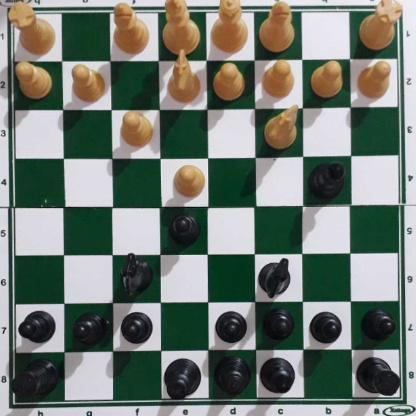black-bishop: (306, 163, 349, 202), (261, 357, 298, 394)
black-king: (164, 358, 201, 399)
black-knight: (120, 255, 154, 299), (260, 261, 292, 300)
black-pawn: (20, 312, 56, 347), (168, 214, 201, 250), (121, 314, 154, 349), (217, 312, 248, 349), (73, 315, 105, 349), (363, 312, 396, 344), (312, 312, 343, 346), (264, 310, 294, 344)
black-queen: (213, 357, 251, 396)
black-rook: (14, 361, 58, 406), (357, 358, 404, 400)
white-bishop: (258, 0, 296, 52), (113, 5, 150, 55)
white-king: (163, 0, 201, 56)
white-knight: (167, 50, 202, 106), (265, 107, 301, 153)
white-pawn: (71, 66, 108, 106), (16, 63, 52, 102), (358, 63, 394, 102), (213, 65, 247, 103), (121, 113, 155, 151), (311, 64, 345, 101), (263, 61, 296, 99), (174, 166, 207, 201)
white-queen: (209, 0, 250, 55)
white-rook: (11, 3, 54, 59), (362, 0, 401, 56)
